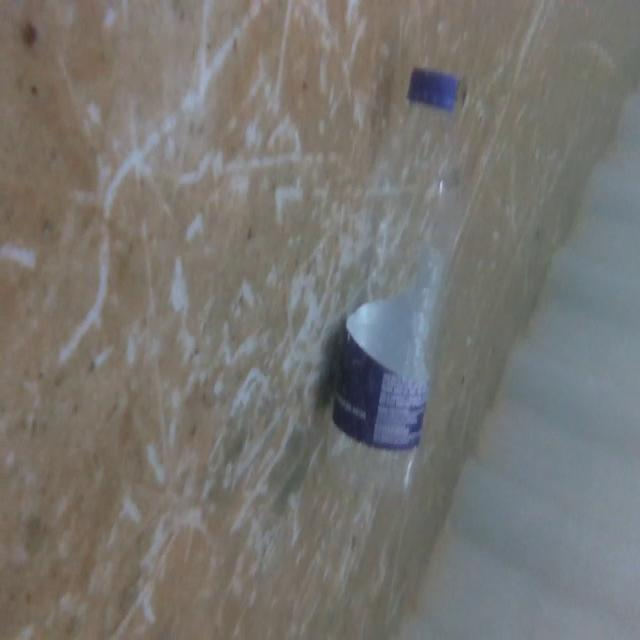plastic bottle: (337, 54, 472, 504)
